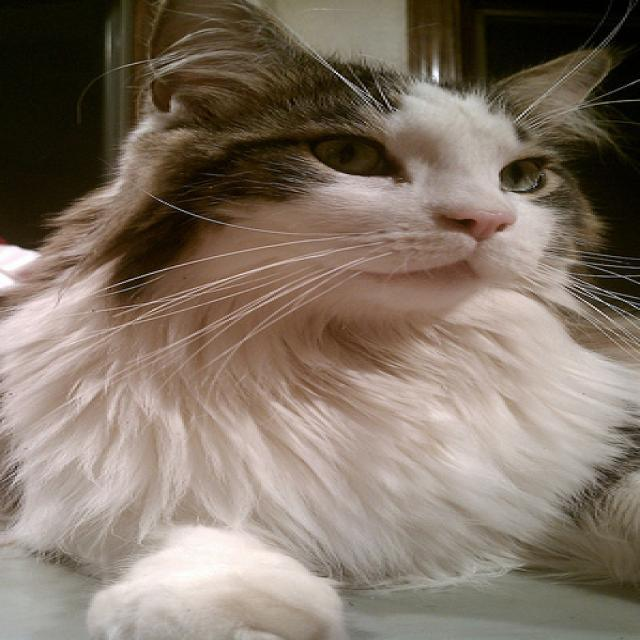Maine_Coon: (122, 0, 608, 308)
